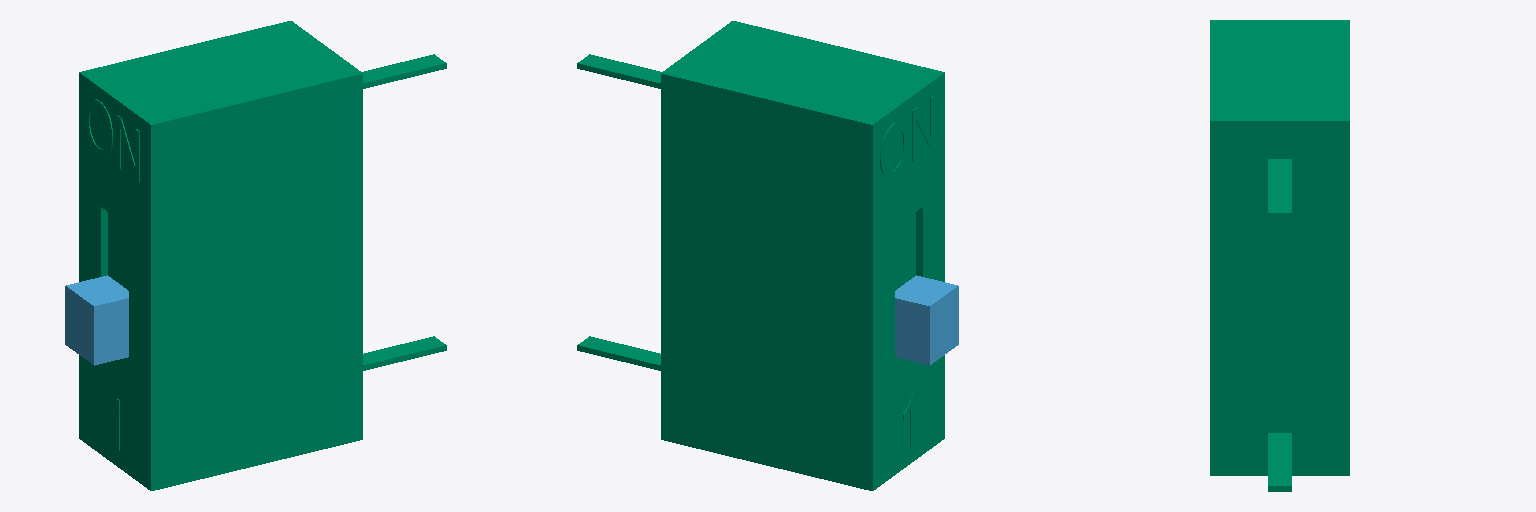
The robot description file, URDF, robot "partnet_a0a79b778d6ab5f0d6870a66e08dc8f0":
<robot name="partnet_a0a79b778d6ab5f0d6870a66e08dc8f0">
	<link name="base"><inertial><mass value="10" /><inertia ixx="1" ixy="0" ixz="0" iyy="1" iyz="0" izz="1" /></inertial></link>
	<link name="link_0">
		<visual name="switch-1">
			<origin xyz="0 0 0" />
			<geometry>
				<mesh filename="textured_objs/original-11.obj" />
			</geometry>
		</visual>
		<collision>
			<origin xyz="0 0 0" />
			<geometry>
				<mesh filename="textured_objs/original-11.obj" />
			</geometry>
		</collision>
	<inertial><mass value="10" /><inertia ixx="1" ixy="0" ixz="0" iyy="1" iyz="0" izz="1" /></inertial></link>
	<joint name="joint_0" type="prismatic">
		<origin xyz="0 0 0" />
		<axis xyz="0 1 0" />
		<child link="link_0" />
		<parent link="link_1" />
		<limit effort="30" lower="0" upper="0.2559999999999998" velocity="1.0" />
	</joint>
	<link name="link_1">
		<visual name="base_body-2">
			<origin xyz="0 0 0" />
			<geometry>
				<mesh filename="textured_objs/original-4.obj" />
			</geometry>
		</visual>
		<visual name="base_body-2">
			<origin xyz="0 0 0" />
			<geometry>
				<mesh filename="textured_objs/original-3.obj" />
			</geometry>
		</visual>
		<visual name="base_body-2">
			<origin xyz="0 0 0" />
			<geometry>
				<mesh filename="textured_objs/original-8.obj" />
			</geometry>
		</visual>
		<visual name="base_body-2">
			<origin xyz="0 0 0" />
			<geometry>
				<mesh filename="textured_objs/original-9.obj" />
			</geometry>
		</visual>
		<visual name="base_body-2">
			<origin xyz="0 0 0" />
			<geometry>
				<mesh filename="textured_objs/original-6.obj" />
			</geometry>
		</visual>
		<visual name="base_body-2">
			<origin xyz="0 0 0" />
			<geometry>
				<mesh filename="textured_objs/original-7.obj" />
			</geometry>
		</visual>
		<visual name="base_body-2">
			<origin xyz="0 0 0" />
			<geometry>
				<mesh filename="textured_objs/original-1.obj" />
			</geometry>
		</visual>
		<visual name="base_body-2">
			<origin xyz="0 0 0" />
			<geometry>
				<mesh filename="textured_objs/original-10.obj" />
			</geometry>
		</visual>
		<collision>
			<origin xyz="0 0 0" />
			<geometry>
				<mesh filename="textured_objs/original-4.obj" />
			</geometry>
		</collision>
		<collision>
			<origin xyz="0 0 0" />
			<geometry>
				<mesh filename="textured_objs/original-3.obj" />
			</geometry>
		</collision>
		<collision>
			<origin xyz="0 0 0" />
			<geometry>
				<mesh filename="textured_objs/original-8.obj" />
			</geometry>
		</collision>
		<collision>
			<origin xyz="0 0 0" />
			<geometry>
				<mesh filename="textured_objs/original-9.obj" />
			</geometry>
		</collision>
		<collision>
			<origin xyz="0 0 0" />
			<geometry>
				<mesh filename="textured_objs/original-6.obj" />
			</geometry>
		</collision>
		<collision>
			<origin xyz="0 0 0" />
			<geometry>
				<mesh filename="textured_objs/original-7.obj" />
			</geometry>
		</collision>
		<collision>
			<origin xyz="0 0 0" />
			<geometry>
				<mesh filename="textured_objs/original-1.obj" />
			</geometry>
		</collision>
		<collision>
			<origin xyz="0 0 0" />
			<geometry>
				<mesh filename="textured_objs/original-10.obj" />
			</geometry>
		</collision>
	<inertial><mass value="10" /><inertia ixx="1" ixy="0" ixz="0" iyy="1" iyz="0" izz="1" /></inertial></link>
	<joint name="joint_1" type="fixed">
		<origin rpy="1.570796326794897 0 -1.570796326794897" xyz="0 0 0" />
		<child link="link_1" />
		<parent link="base" />
	</joint>
</robot>

--- What the picture shows (computed from the rendered views, not written in the file) ---
3 views of the same robot in one strip: view 1: azimuth 30°, elevation 25°; view 2: azimuth 150°, elevation 25°; view 3: azimuth 270°, elevation 25° (orthographic).
Robot: partnet_a0a79b778d6ab5f0d6870a66e08dc8f0 — 3 links, 2 joints (1 prismatic, 1 fixed); root link base; default pose: all joints at 0.
Visible links, largest first — view 1: link_1, link_0; view 2: link_1, link_0; view 3: link_1.
Link boxes in pixels (box(x1,y1,x2,y2)): link_1: box(79, 21, 446, 490); link_0: box(65, 275, 128, 365); link_1: box(577, 21, 944, 490); link_0: box(895, 275, 958, 365); link_1: box(1210, 20, 1349, 491).
Size in the robot's own frame: 1.42 by 0.4917 by 1.38 metres.
Meshes: 9 distinct files referenced, 9 mesh visuals loaded (9 OBJ).